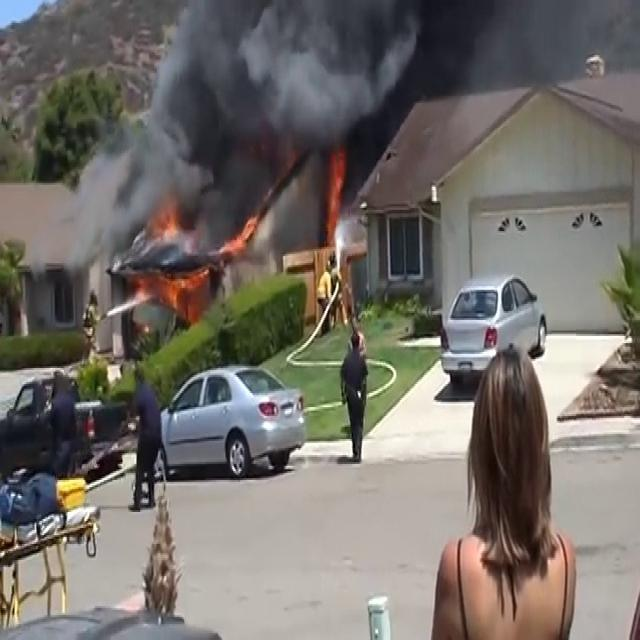Fire: (151, 200, 183, 249), (223, 210, 257, 256)
Smoke: (120, 4, 356, 244)
